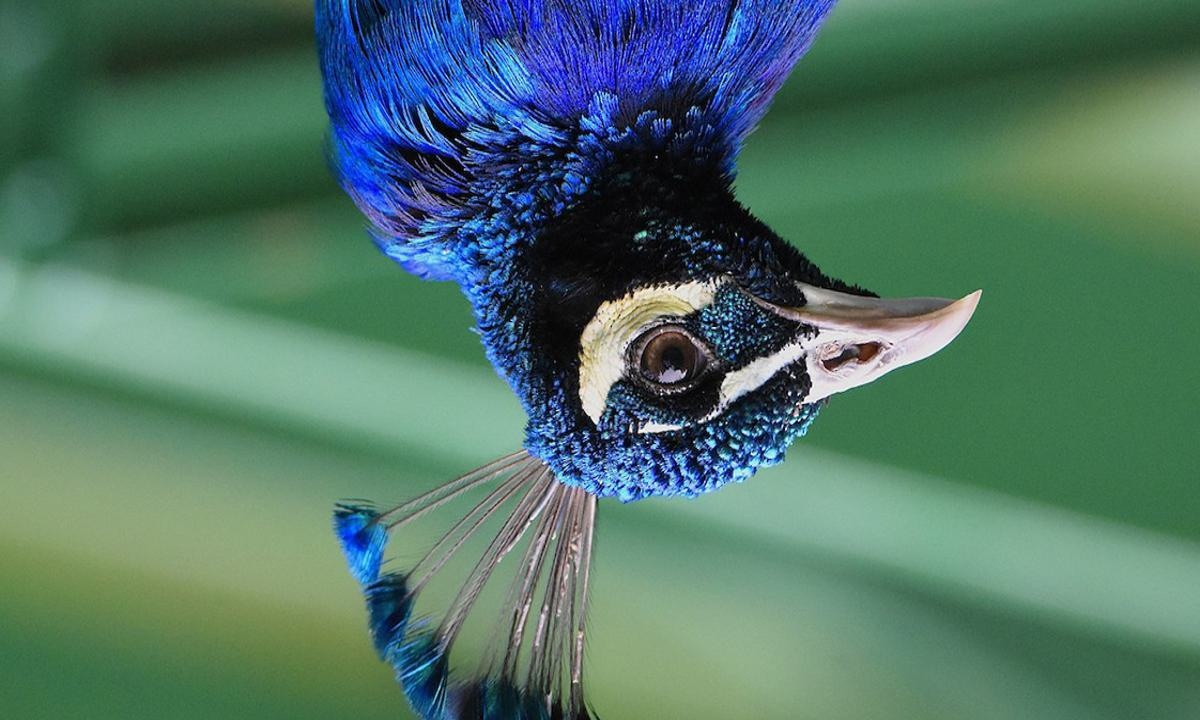peacock: (323, 1, 1023, 614)
